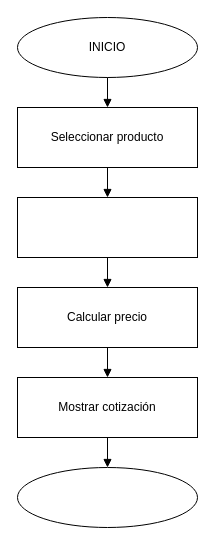
Image size: 215x545. Some labels were removed from this diagram. The centre of each missing label's shape, as x and y in pixels:
"FIN" goes at [107,497].
"Ingresar cantidad" goes at [107,227].
